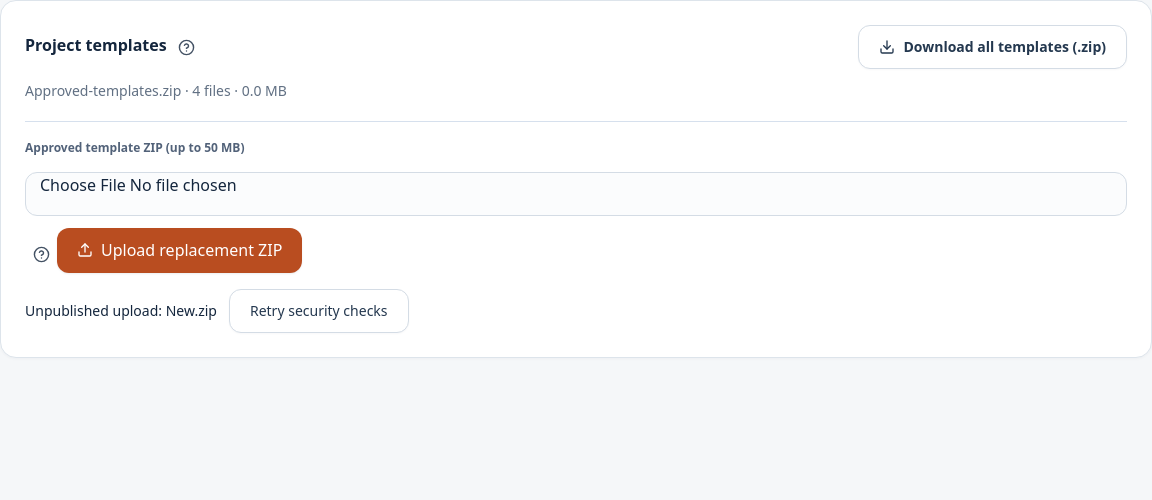
Scenario: project template pack › keeps the download during scan failures and allows retry
Click the button "Retry security checks".
click(319, 311)  # box [229, 289, 409, 333]
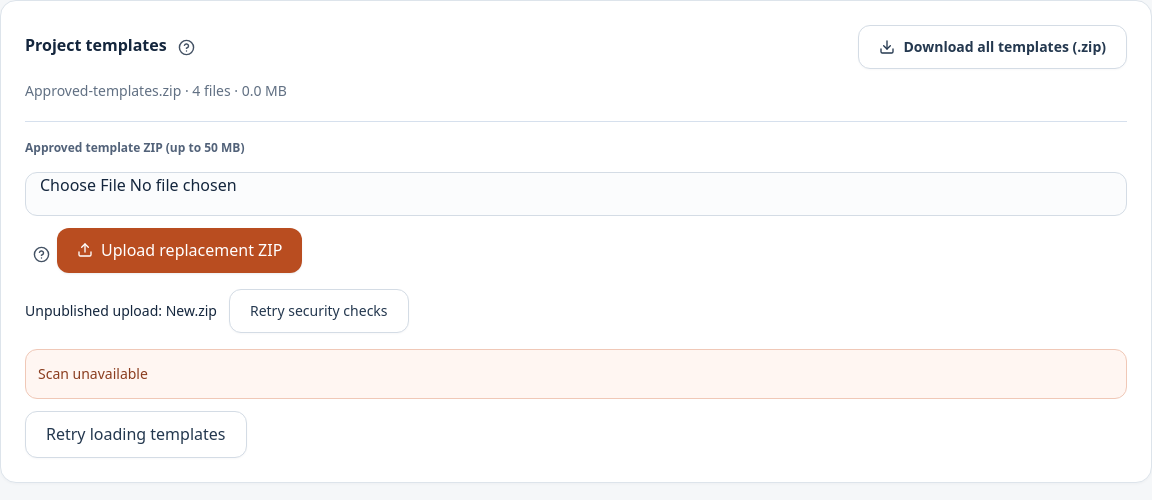
Expected: the link "Download all templates (.zip)" is shown, [858, 25, 1127, 69]
Now the message reads "Scan unavailable", box [38, 364, 148, 383]
